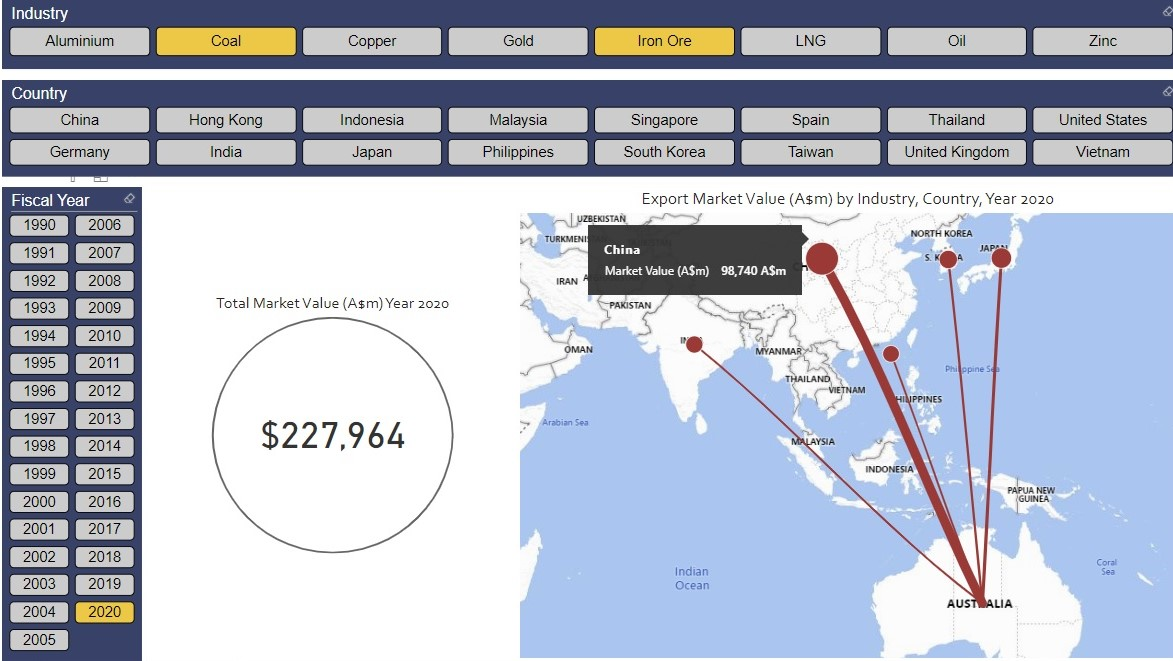

This screenshot's page, from the dashboard's own definition file:
{"tool":"powerbi","page":{"name":"Market#1","canvas":[1280,720],"ordinal":5},"visuals":[{"type":"ChicletSlicer1448559807354","fields":{"Category":["Market.Industry"]},"box":[0,0,1279.8,75],"z":0},{"type":"flowmap30CFDD5B92F848C88242B1E81C8C33C7","fields":{"Dest":["Market.Country"],"Origin":["Market.From"],"Tooltip":["Metrics.Market Value (A$m)"],"width":["Metrics.Market Value (A$m)"]},"box":[557,203.4,722.9,516.6],"z":1000},{"type":"ChicletSlicer1448559807354","fields":{"Category":["Market.Fiscal Year"]},"box":[0,203.4,151.5,516.6],"z":2000},{"type":"ChicletSlicer1448559807354","fields":{"Category":["Market.Country"]},"box":[0,86.6,1279.8,105.3],"z":3000},{"type":"advanceCardE03760C5AB684758B56AA29F9E6C257B","fields":{"mainMeasure":["Metrics.Market Value (A$m)"]},"box":[215,203.4,209.2,248.2],"z":4000},{"type":"tableEx","fields":{"Values":["Market.Fiscal Year","Market.Country","Market.Industry","Metrics.Market Value (A$m)"]},"box":[151.5,461.7,405.5,258.3],"z":5000}]}

Visuals, with their boxes in screenshot pixels (x1, y1, x2, y2), scaled from the page's 1280x720 canvas onto the 1173x661 screenshot:
ChicletSlicer1448559807354 - Market.Industry: l=0, t=0, r=1172, b=69
flowmap30CFDD5B92F848C88242B1E81C8C33C7 - Market.Country x Market.From: l=510, t=187, r=1172, b=660
ChicletSlicer1448559807354 - Market.Fiscal Year: l=0, t=187, r=139, b=660
ChicletSlicer1448559807354 - Market.Country: l=0, t=80, r=1172, b=176
advanceCardE03760C5AB684758B56AA29F9E6C257B - Metrics.Market Value (A$m): l=197, t=187, r=389, b=415
tableEx - Market.Fiscal Year x Market.Country: l=139, t=424, r=510, b=660
